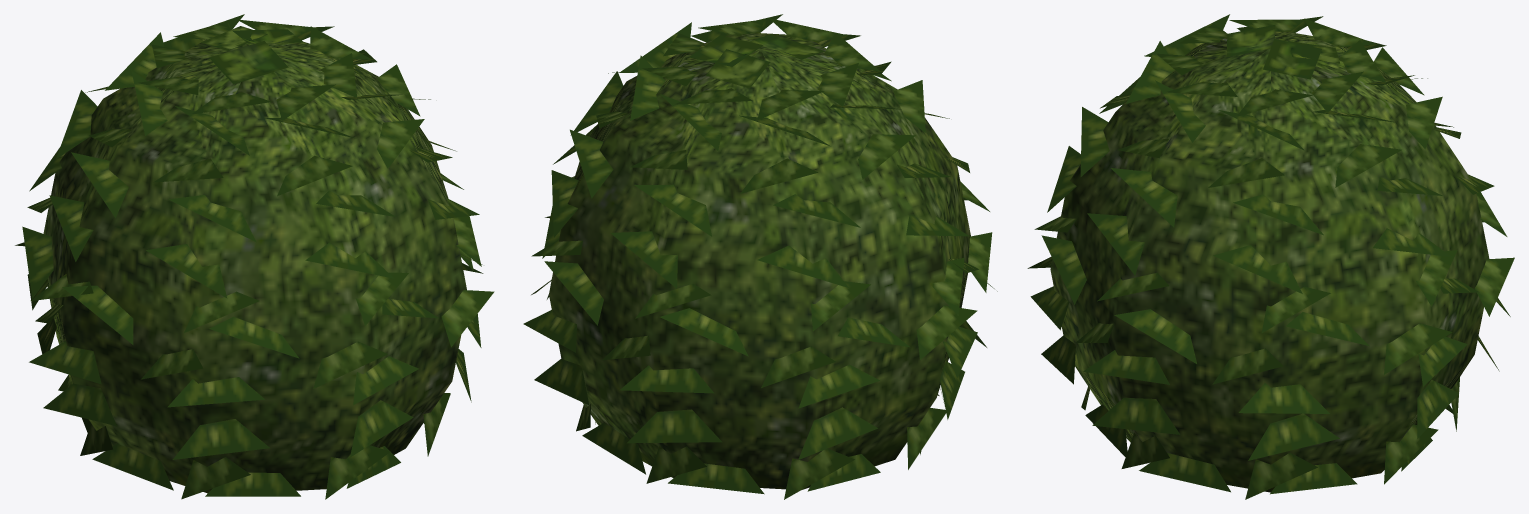
3 views of the same model, side by side, from view 1: azimuth 30°, elevation 25°; view 2: azimuth 150°, elevation 25°; view 3: azimuth 270°, elevation 25° (orthographic).
Parts seen in each view (by area): view 1: um_t1_pl013_model_t1_pl013_modelShape; view 2: um_t1_pl013_model_t1_pl013_modelShape; view 3: um_t1_pl013_model_t1_pl013_modelShape.
Part boxes in pixels (<box>): um_t1_pl013_model_t1_pl013_modelShape: <box>15,14,494,499</box>; um_t1_pl013_model_t1_pl013_modelShape: <box>523,14,997,499</box>; um_t1_pl013_model_t1_pl013_modelShape: <box>1027,14,1514,499</box>.
Bounding box in the file's own units: 1.5 × 1.3 × 1.49.
1 material, 1 textured.
